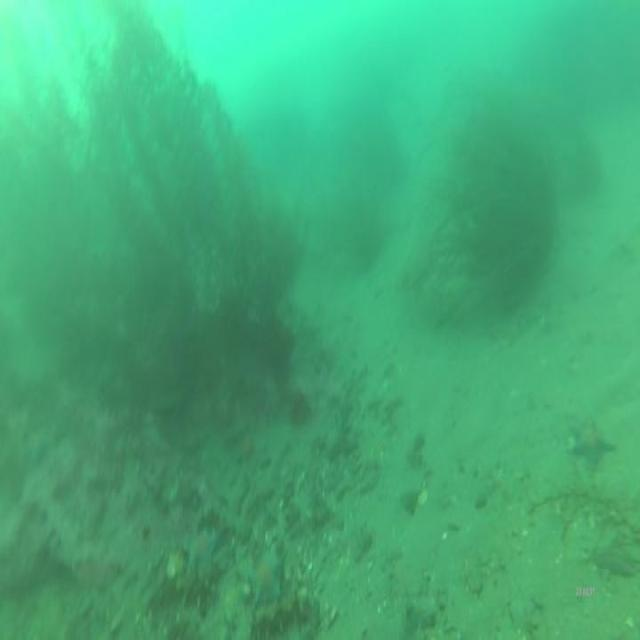starfish: (178, 520, 226, 583), (573, 414, 616, 477), (251, 547, 287, 610)
waterweeds: (0, 0, 284, 362), (415, 74, 555, 329)
